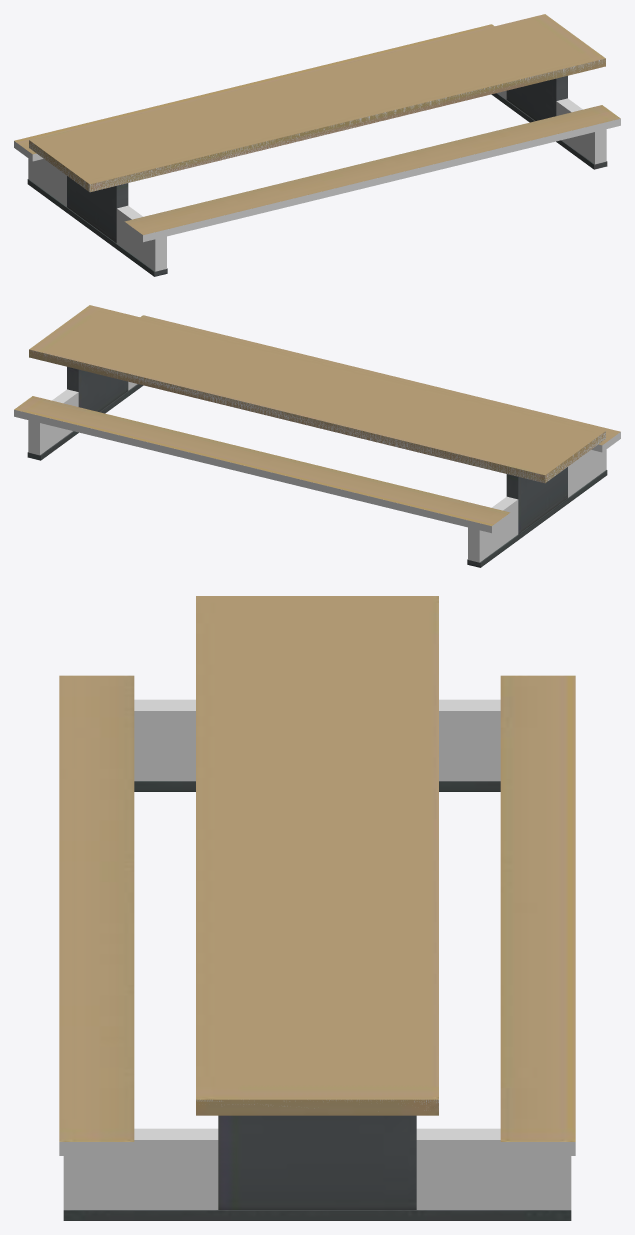
The model's file is cafeteria_table.glb.
3 views of the same model, one above another, from view 1: azimuth 30°, elevation 25°; view 2: azimuth 150°, elevation 25°; view 3: azimuth 270°, elevation 25° (orthographic). The views are drawn at different scales.
Visible parts, largest first — view 1: CafeteriaTable, COL_Bench_-1.0, COL_Leg_-2.3, COL_Top, COL_Leg_2.3; view 2: CafeteriaTable, COL_Bench_1.0, COL_Top, COL_Leg_-2.3, COL_Leg_2.3; view 3: CafeteriaTable, COL_Leg_2.3, COL_Leg_-2.3, COL_Bench_1.0, COL_Bench_-1.0.
Part boxes in pixels (x1,y1,x2,y2): CafeteriaTable: (14,14,620,276); COL_Bench_-1.0: (124,118,620,242); COL_Leg_-2.3: (28,158,166,271); COL_Top: (29,59,602,192); COL_Leg_2.3: (498,90,606,164); CafeteriaTable: (14,305,620,567); COL_Bench_1.0: (14,409,510,533); COL_Top: (31,350,605,482); COL_Leg_-2.3: (468,449,606,562); COL_Leg_2.3: (28,381,136,455); CafeteriaTable: (59,596,575,1220); COL_Leg_2.3: (63,1128,571,1209); COL_Leg_-2.3: (134,699,500,780); COL_Bench_1.0: (500,1142,575,1155); COL_Bench_-1.0: (59,1142,134,1155).
Bounding box in the file's own units: 5.4 × 0.7601 × 2.34.
Materials: 2 (2 with a texture image).
